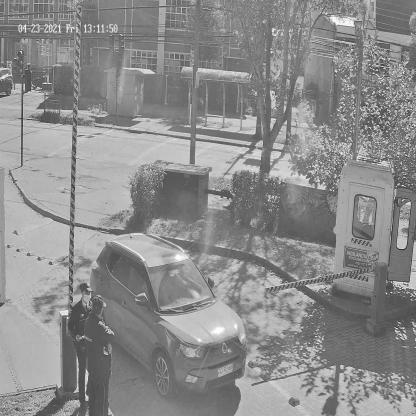Patente: (217, 360, 235, 378)
